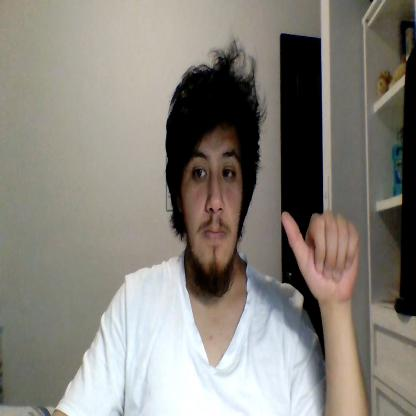A: (280, 209, 358, 305)
